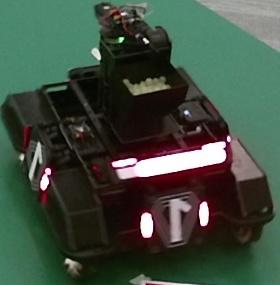armor_1: (140, 201, 209, 239)
back_1: (152, 191, 198, 248)
left_1: (27, 139, 48, 192)
light: (112, 141, 227, 180)
